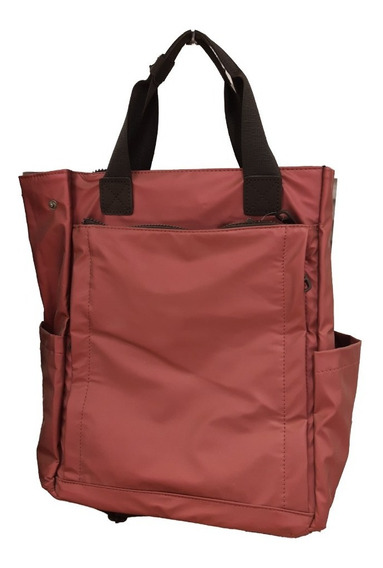cartera: (18, 29, 363, 540)
